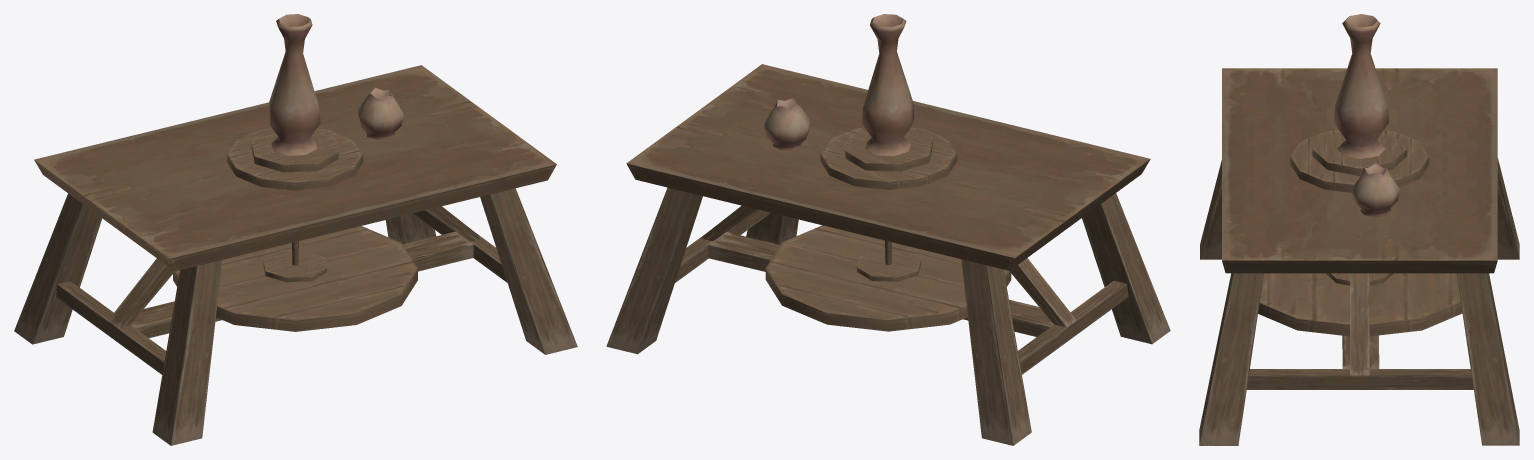
File: Homeworld_Interior_Xm_Table_Prop_CityTable_01_Lod0.fbx
3 renders of one model, left to right at view 1: azimuth 30°, elevation 25°; view 2: azimuth 150°, elevation 25°; view 3: azimuth 270°, elevation 25°, orthographic.
Parts seen in each view (by area): view 1: Homeworld_Interior_Xm_Table_Prop_CityTable_01_Lod0; view 2: Homeworld_Interior_Xm_Table_Prop_CityTable_01_Lod0; view 3: Homeworld_Interior_Xm_Table_Prop_CityTable_01_Lod0.
Part boxes in pixels (x1,y1,x2,y2): Homeworld_Interior_Xm_Table_Prop_CityTable_01_Lod0: [14, 14, 577, 445]; Homeworld_Interior_Xm_Table_Prop_CityTable_01_Lod0: [606, 14, 1170, 445]; Homeworld_Interior_Xm_Table_Prop_CityTable_01_Lod0: [1199, 14, 1519, 445].
Bounding box in the file's own units: 1.82 × 1.36 × 1.22.
